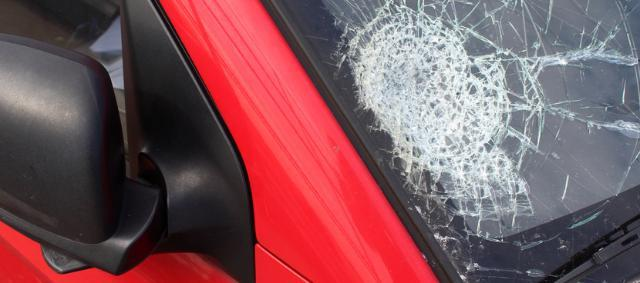Windshield: (298, 0, 640, 269)
